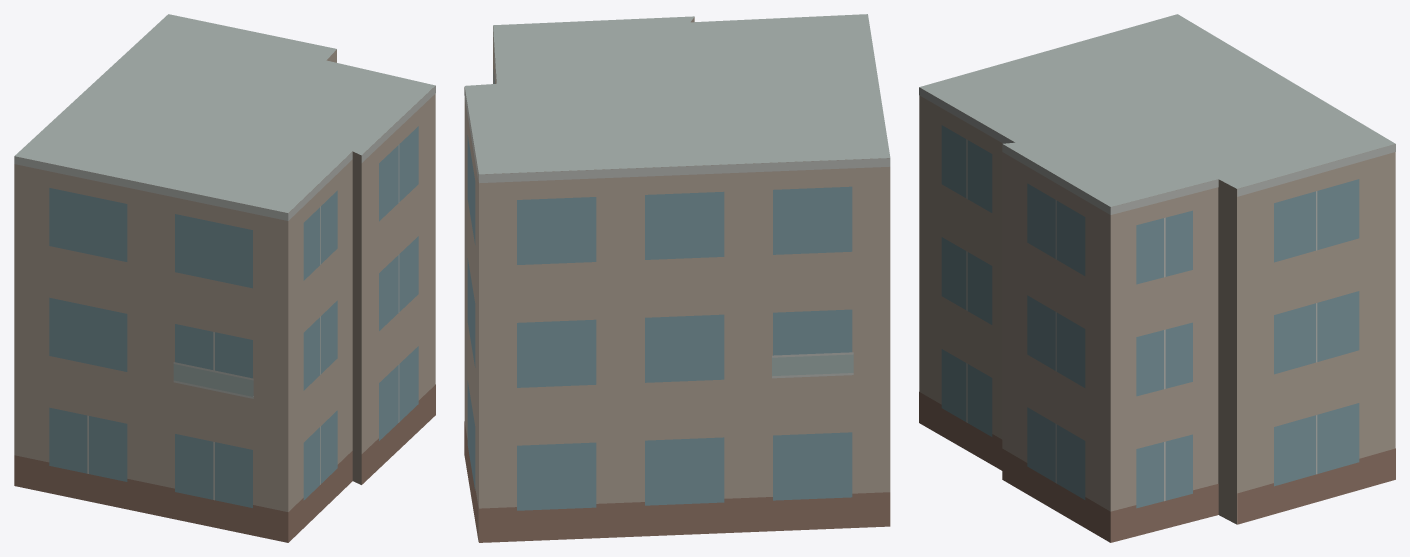
The model's file is survey-upis-32963306.glb.
The picture shows the model from 3 angles, left to right: view 1: azimuth 30°, elevation 25°; view 2: azimuth 150°, elevation 25°; view 3: azimuth 270°, elevation 25°; orthographic projection. The views are drawn at different scales.
Parts seen in each view (by area): view 1: survey-upis-32963306.tmp; view 2: survey-upis-32963306.tmp; view 3: survey-upis-32963306.tmp.
Part boxes in pixels (x1,y1,x2,y2): survey-upis-32963306.tmp: (14, 14, 435, 542); survey-upis-32963306.tmp: (464, 14, 890, 542); survey-upis-32963306.tmp: (919, 14, 1395, 542).
Size of the model in its own units: 12.59 by 10.2 by 13.13.
